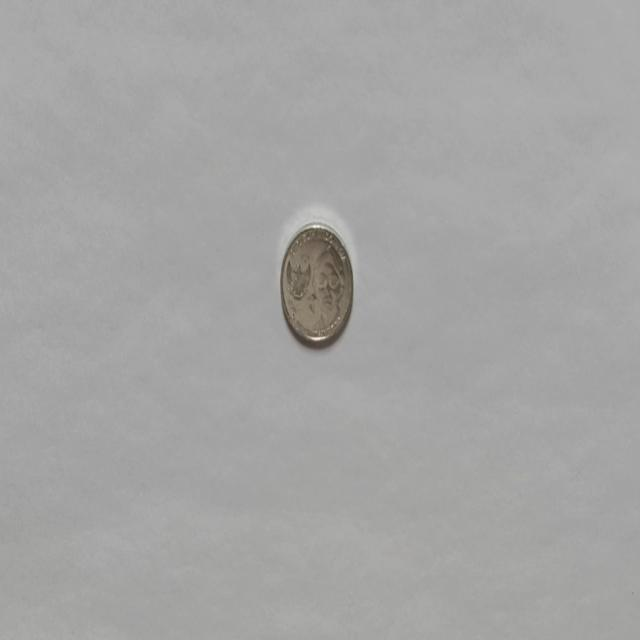dua ratus rupiah: (279, 220, 354, 348)
